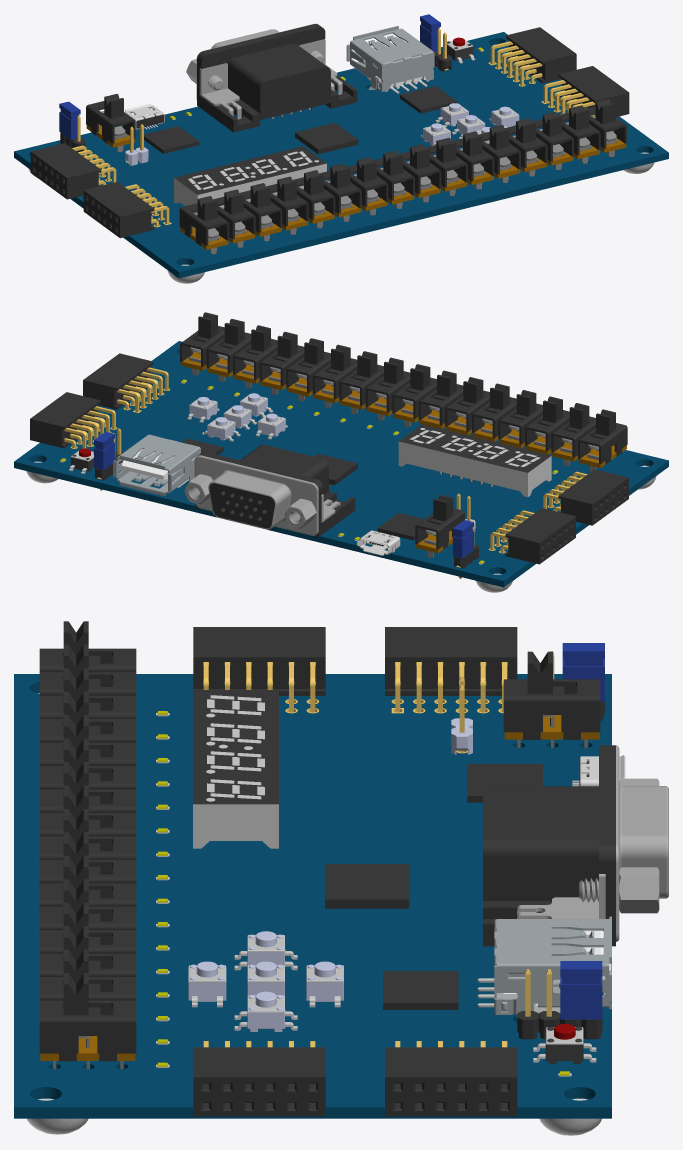
The model's file is basys3.glb.
3 views of the same model, one above another, from view 1: azimuth 30°, elevation 25°; view 2: azimuth 150°, elevation 25°; view 3: azimuth 270°, elevation 25° (orthographic). The views are drawn at different scales.
Visible parts, largest first — view 1: NAUO3_18, NAUO63_238, NAUO72_16, NAUO65_243, NAUO64_241, NAUO63_239, NAUO58_198, NAUO67_247, NAUO66_245, NAUO5_26, NAUO58_200, NAUO57_197 (+41 smaller); view 2: NAUO3_18, NAUO63_239, NAUO63_238, NAUO72_16, NAUO58_200, NAUO64_241, NAUO58_198, NAUO65_243, NAUO67_247, NAUO66_245, NAUO5_26, NAUO66_244 (+44 smaller); view 3: NAUO3_18, NAUO63_238, NAUO63_239, NAUO66_245, NAUO67_247, NAUO58_198, NAUO72_16, NAUO64_241, NAUO65_243, NAUO5_26, NAUO38_157, NAUO57_197 (+35 smaller).
Boxes of the visible parts, left/top/right/bottom form: NAUO3_18: left=14, top=32, right=668, bottom=278; NAUO63_238: left=197, top=24, right=357, bottom=132; NAUO72_16: left=346, top=26, right=434, bottom=91; NAUO65_243: left=83, top=182, right=154, bottom=238; NAUO64_241: left=30, top=143, right=101, bottom=199; NAUO63_239: left=186, top=23, right=342, bottom=119; NAUO58_198: left=174, top=146, right=326, bottom=194; NAUO67_247: left=506, top=27, right=576, bottom=83; NAUO66_245: left=558, top=66, right=629, bottom=116; NAUO5_26: left=86, top=94, right=135, bottom=143; NAUO58_200: left=174, top=163, right=326, bottom=213; NAUO57_197: left=295, top=122, right=358, bottom=154; NAUO3_18: left=14, top=341, right=668, bottom=587; NAUO63_239: left=184, top=455, right=340, bottom=535; NAUO63_238: left=195, top=444, right=355, bottom=536; NAUO72_16: left=113, top=434, right=200, bottom=496; NAUO58_200: left=398, top=441, right=551, bottom=497; NAUO64_241: left=505, top=508, right=575, bottom=564; NAUO58_198: left=399, top=424, right=550, bottom=472; NAUO65_243: left=558, top=469, right=628, bottom=525; NAUO67_247: left=30, top=392, right=100, bottom=448; NAUO66_245: left=83, top=353, right=153, bottom=409; NAUO5_26: left=415, top=494, right=464, bottom=549; NAUO66_244: left=117, top=367, right=168, bottom=412; NAUO3_18: left=14, top=674, right=611, bottom=1118; NAUO63_238: left=483, top=745, right=615, bottom=946; NAUO63_239: left=517, top=745, right=668, bottom=941; NAUO66_245: left=193, top=1047, right=325, bottom=1116; NAUO67_247: left=385, top=1047, right=517, bottom=1116; NAUO58_198: left=193, top=690, right=278, bottom=804; NAUO72_16: left=494, top=916, right=611, bottom=1017; NAUO64_241: left=385, top=627, right=517, bottom=695; NAUO65_243: left=193, top=627, right=325, bottom=695; NAUO5_26: left=503, top=651, right=600, bottom=739; NAUO38_157: left=39, top=1000, right=136, bottom=1061; NAUO57_197: left=325, top=864, right=409, bottom=908.
Bounding box in the file's own units: 12.68 × 1.78 × 7.79.
